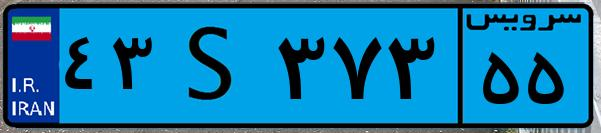3: (270, 28, 330, 110), (385, 28, 445, 110), (110, 28, 158, 98)
4: (57, 26, 110, 100)
5: (475, 38, 525, 113), (525, 38, 570, 115)
7: (330, 28, 385, 110)
S: (158, 12, 270, 120)
